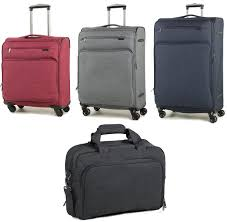suitcase: (153, 2, 226, 123), (76, 4, 148, 119), (1, 4, 72, 116)
